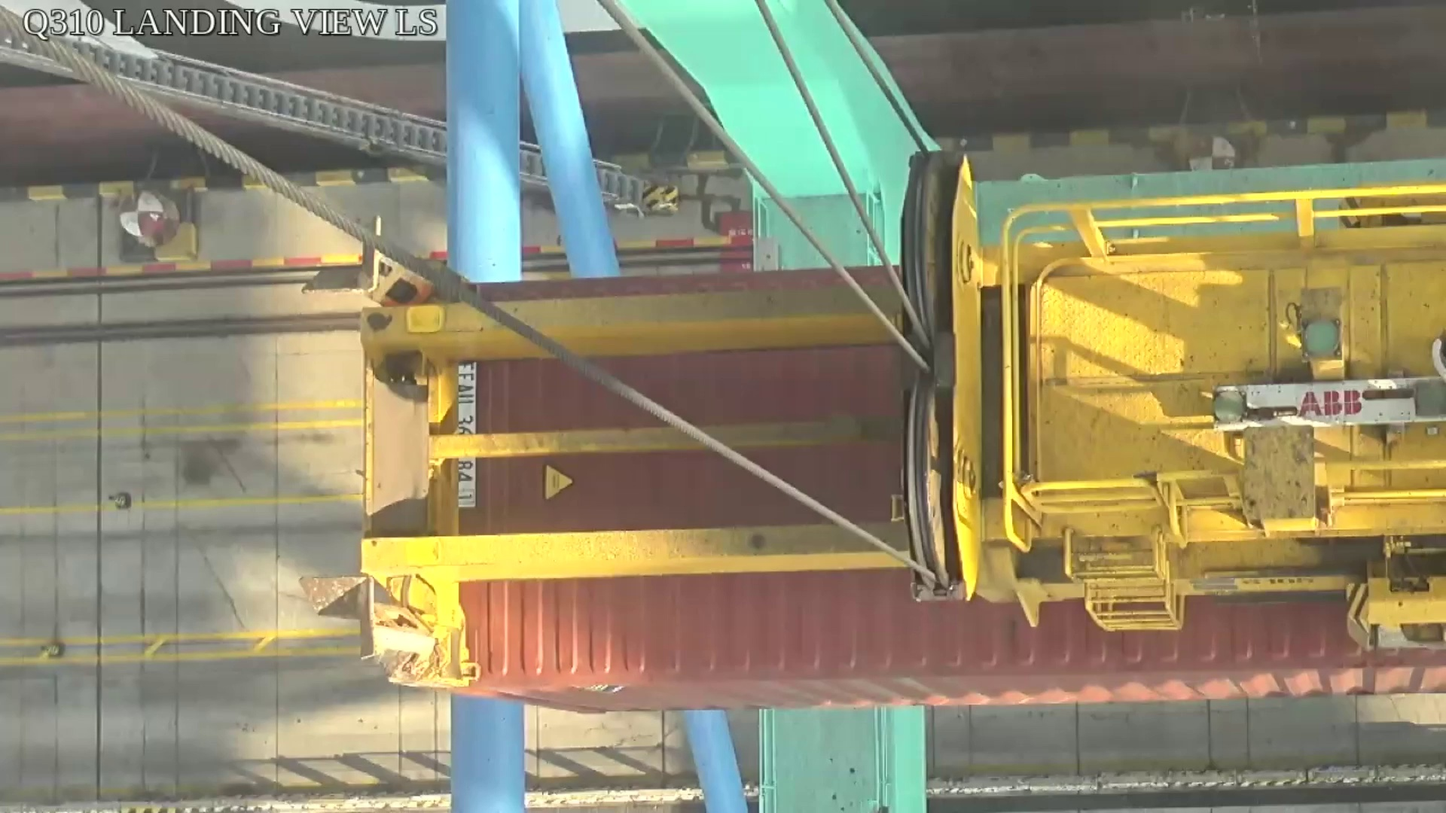aa: (900, 151, 987, 604)
